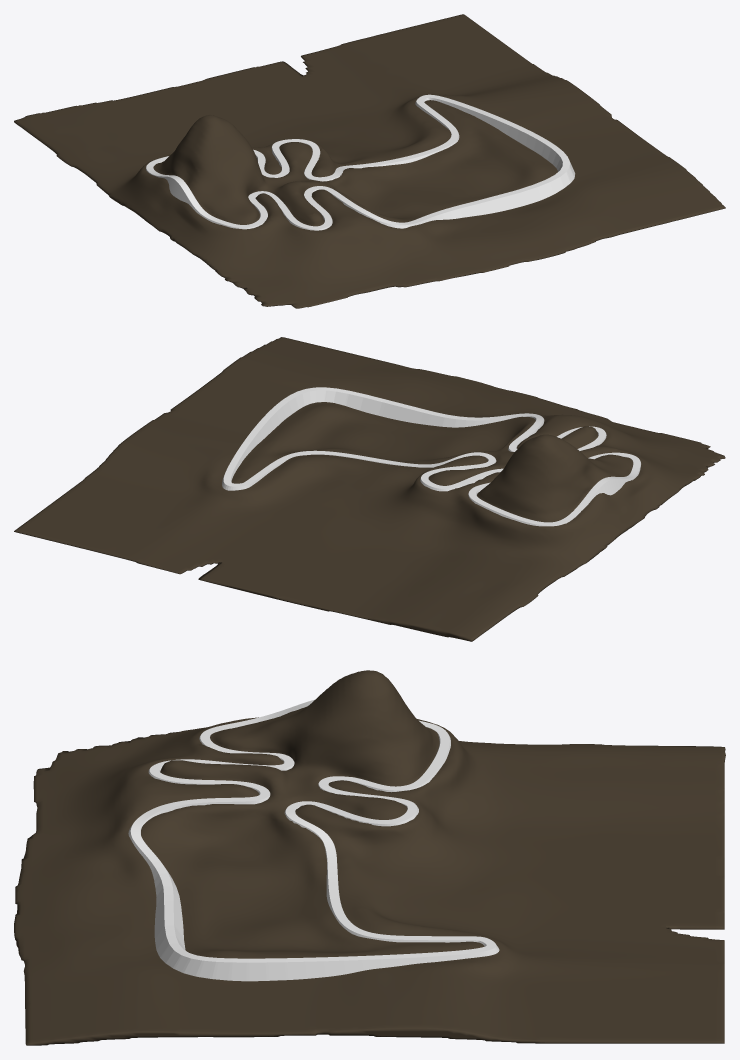
Rendered from Envi_Arena1_Dummy.fbx.
3 renders of one model, top to bottom at view 1: azimuth 30°, elevation 25°; view 2: azimuth 150°, elevation 25°; view 3: azimuth 270°, elevation 25°, orthographic. The views are drawn at different scales.
Visible parts, largest first — view 1: ant01.002, Plane.002; view 2: ant01.002, Plane.002; view 3: ant01.002, Plane.002.
Boxes of the visible parts, x1,y1,x2,y2 form: ant01.002: (14,14,725,308); Plane.002: (146,94,575,230); ant01.002: (14,337,725,641); Plane.002: (222,387,640,526); ant01.002: (14,670,725,1045); Plane.002: (128,699,499,981).
Size of the model in its own units: 44829 by 8710 by 44984.
